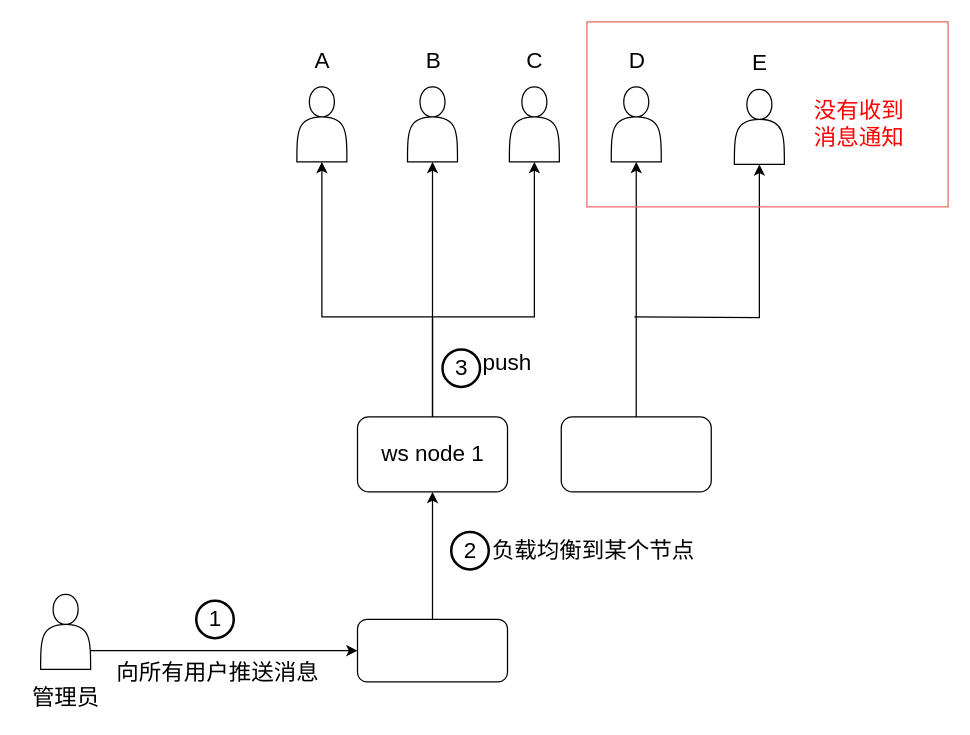
This 970x735 diagram has some shape labels left out. Here are the shapes that lost their labels. From the top down, the centre of each, then its label:
the point at 635,454: ws node 2
the point at 432,650: Proxy
